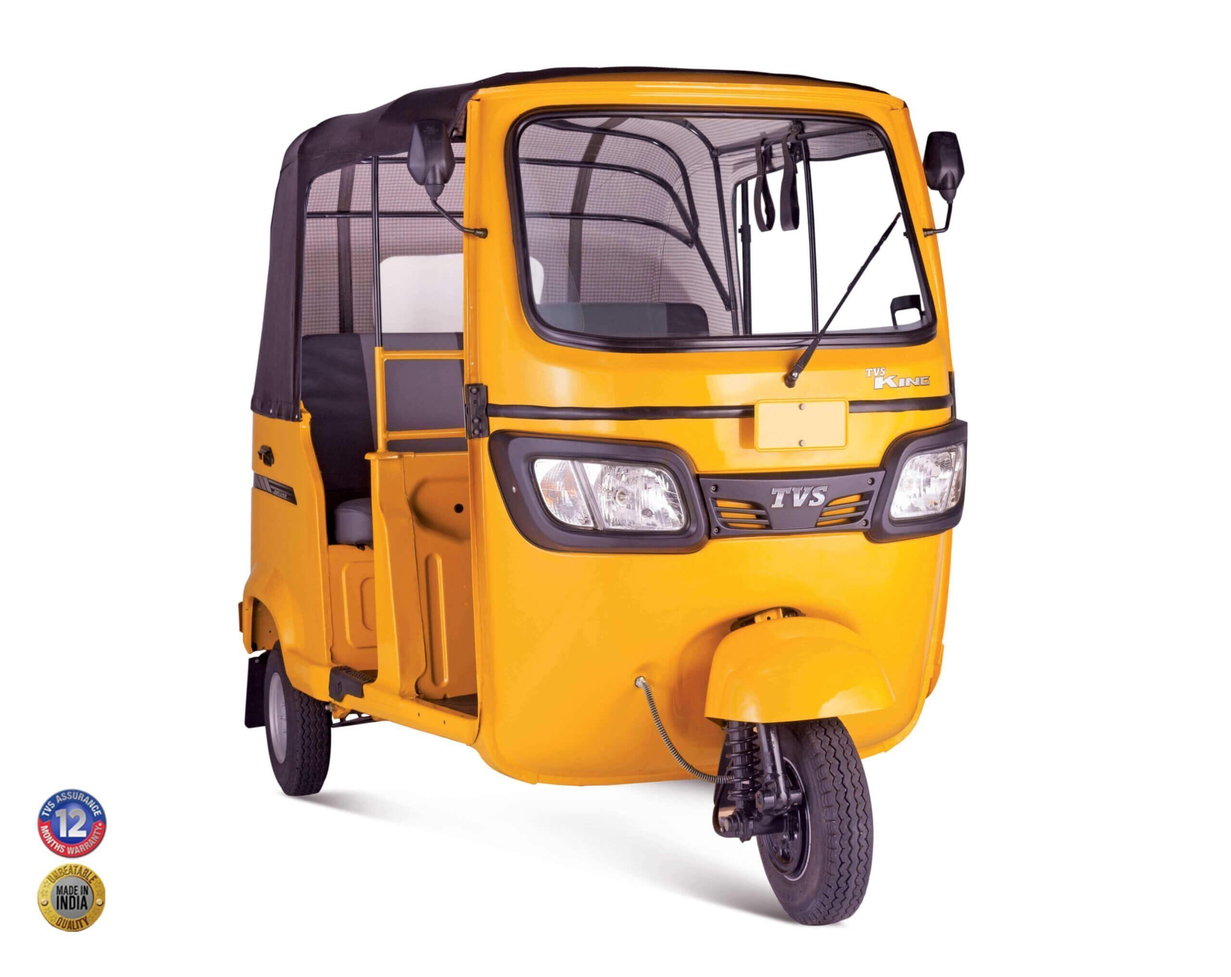keke: (242, 40, 975, 945)
